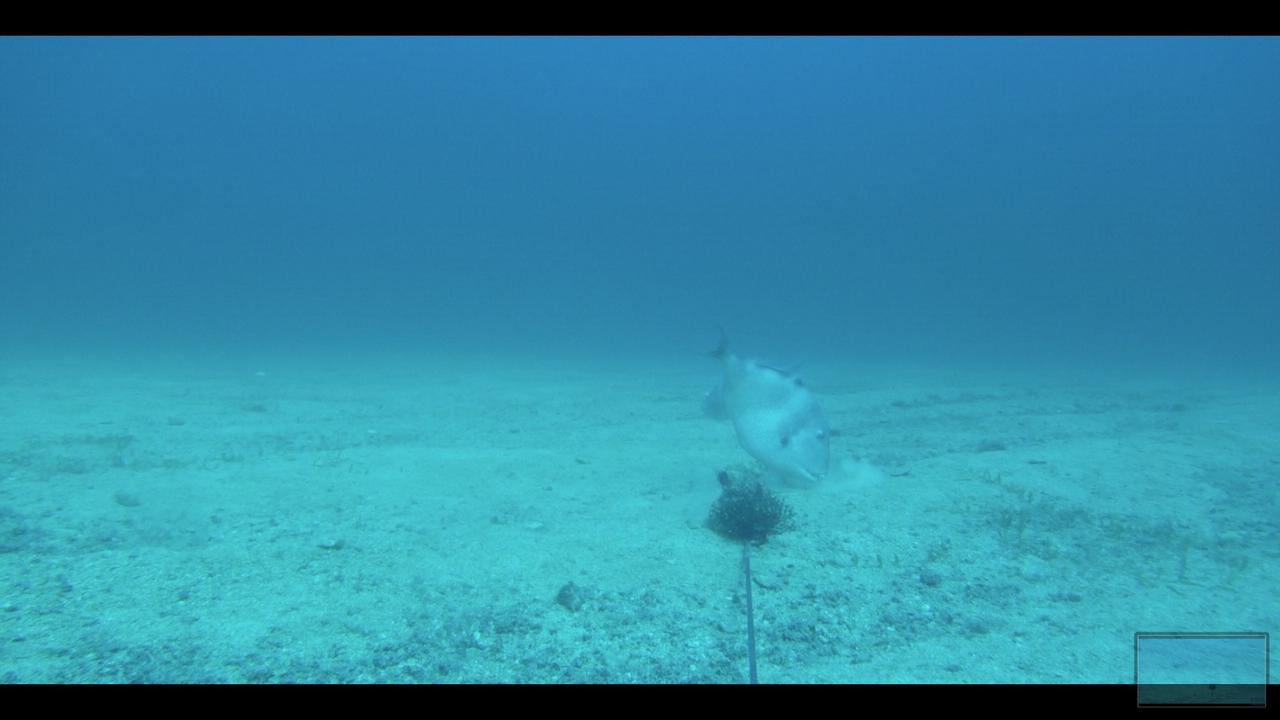balistes: (687, 323, 838, 496)
